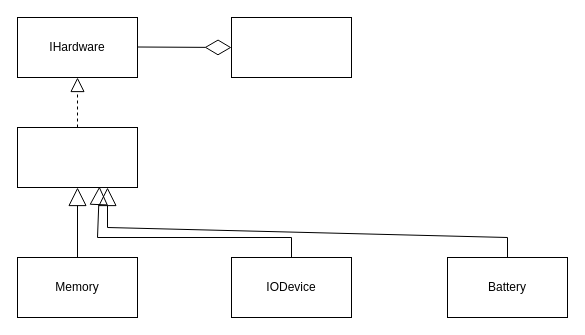
The diagram is 585 pixels wide and 335 high, and some of its shapes have lost their labels. Each missing label, with the centre of its shape:
CLList: pixel 291 47
Hardware: pixel 77 157
